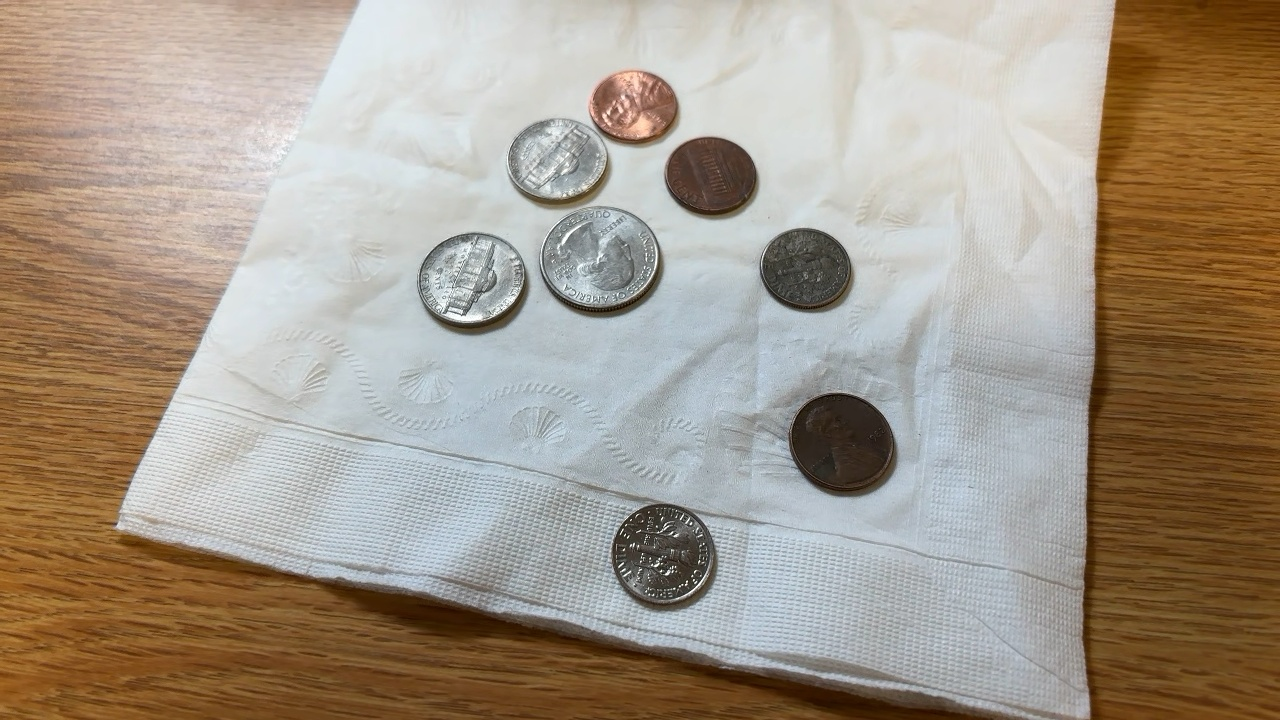dime: (609, 504, 719, 606), (760, 225, 855, 316)
nickel: (419, 231, 529, 326), (504, 116, 609, 200)
penny: (786, 388, 900, 499), (665, 135, 760, 217), (588, 69, 681, 141)
quarter: (540, 206, 666, 314)
